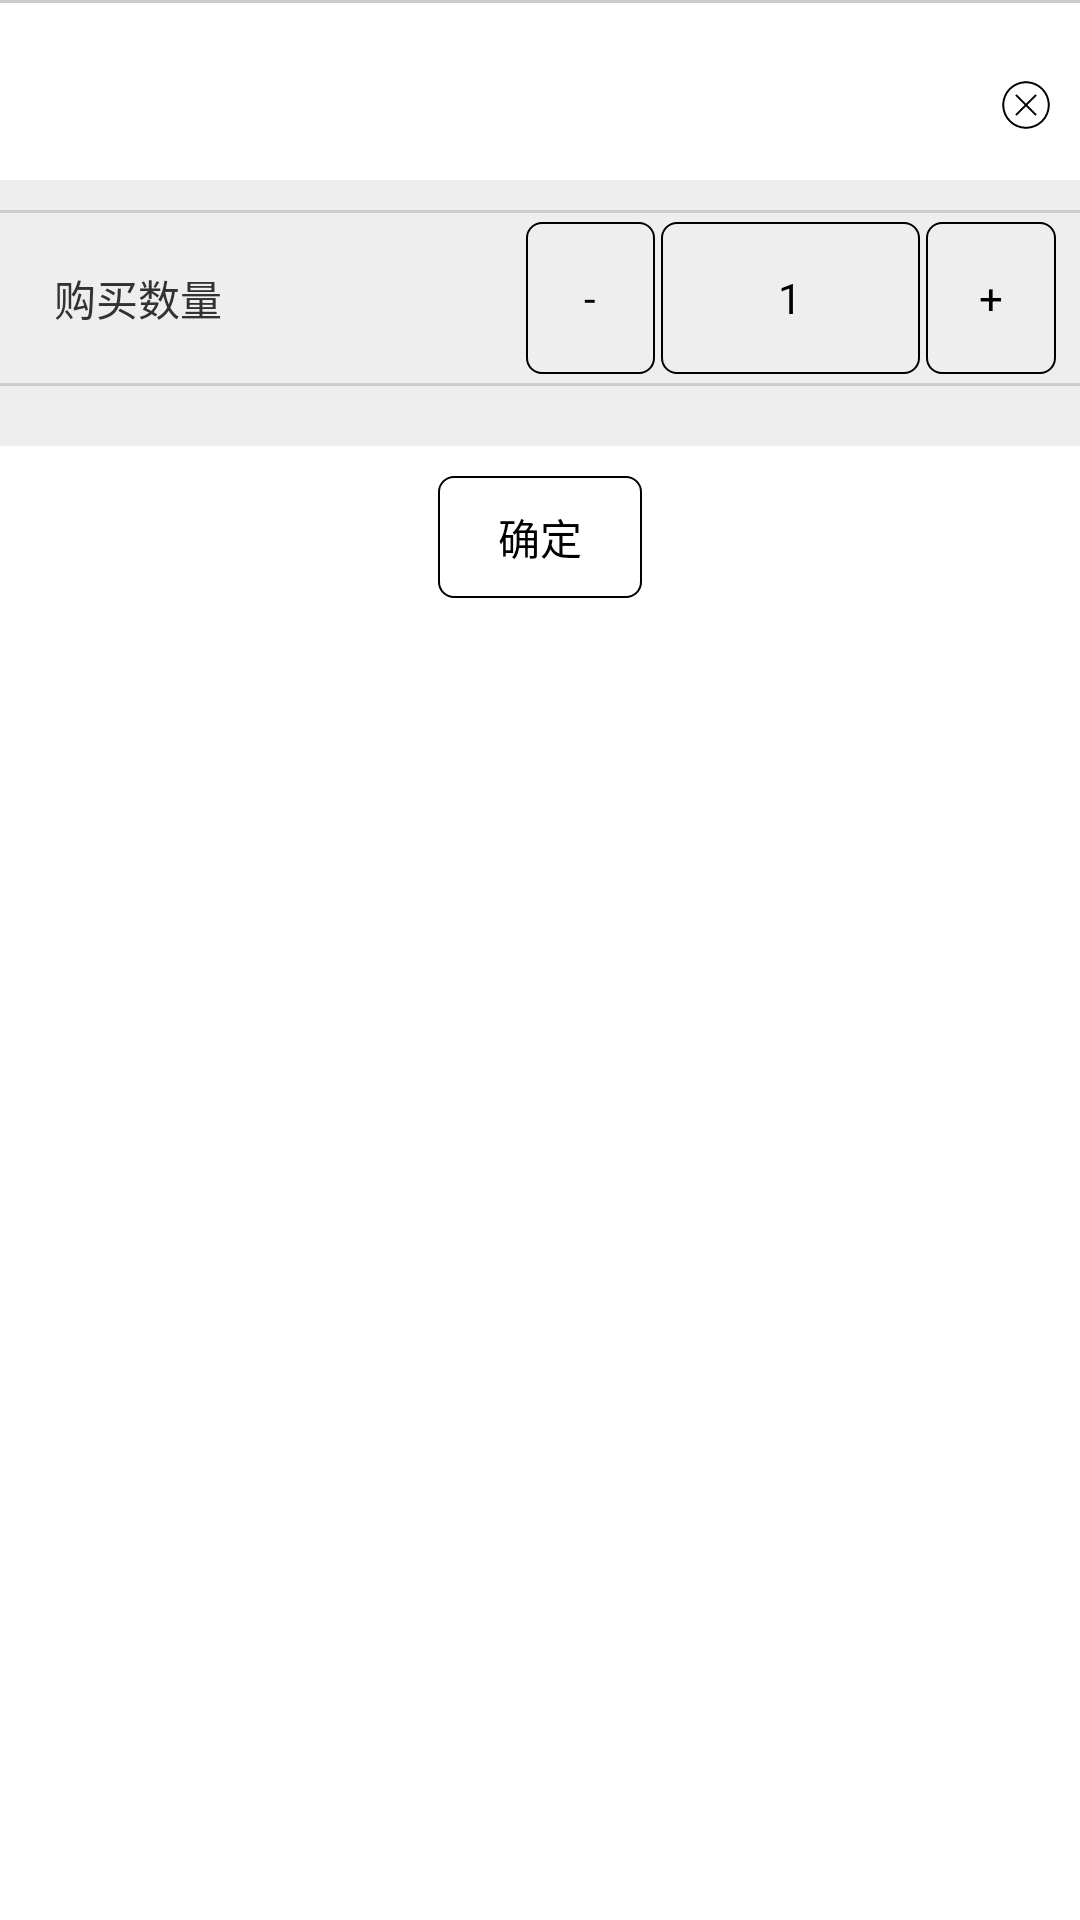

Where to tap for icons on this 1080x1920 app screen, as [x,y]:
proicon pop close: [1026,105]
